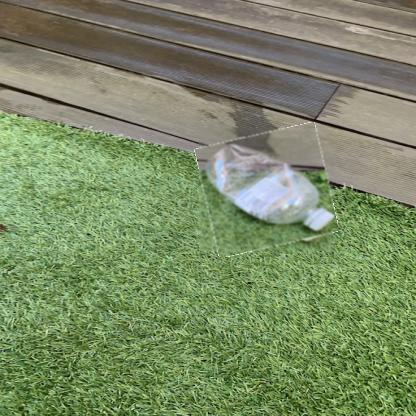plastic-bottles: (199, 128, 334, 252)
